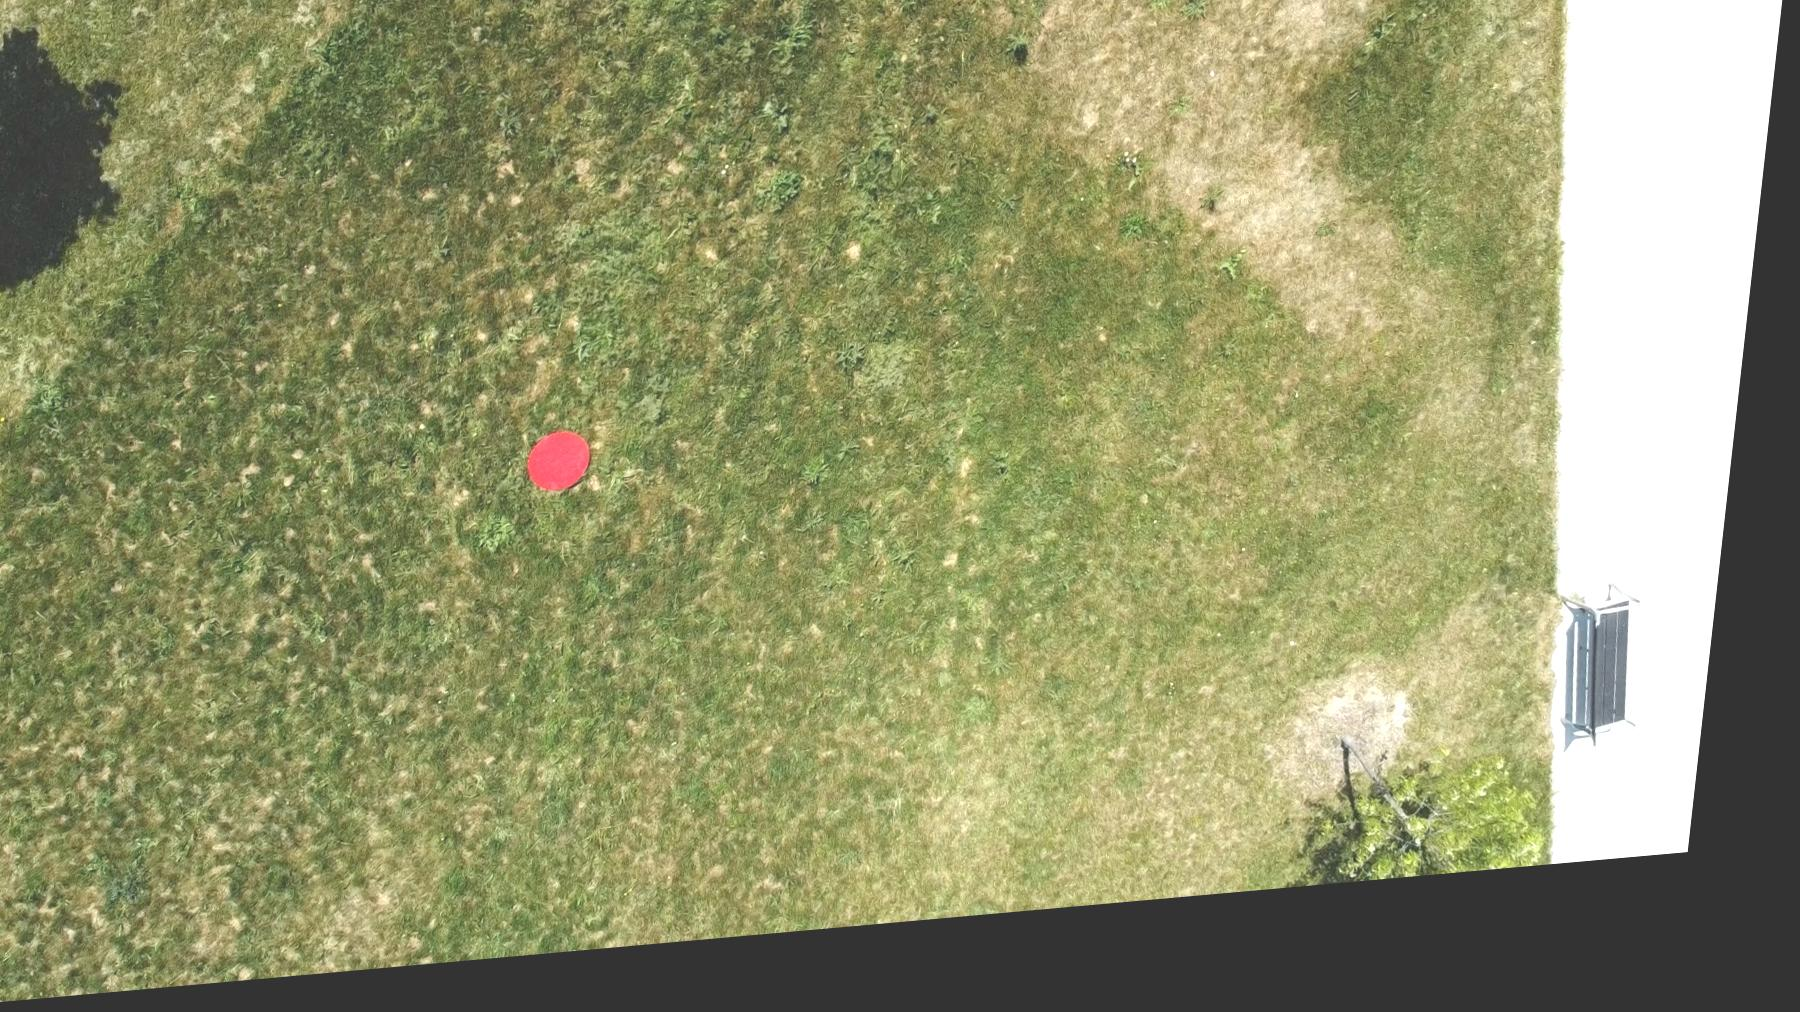Red: (534, 437, 608, 507)
